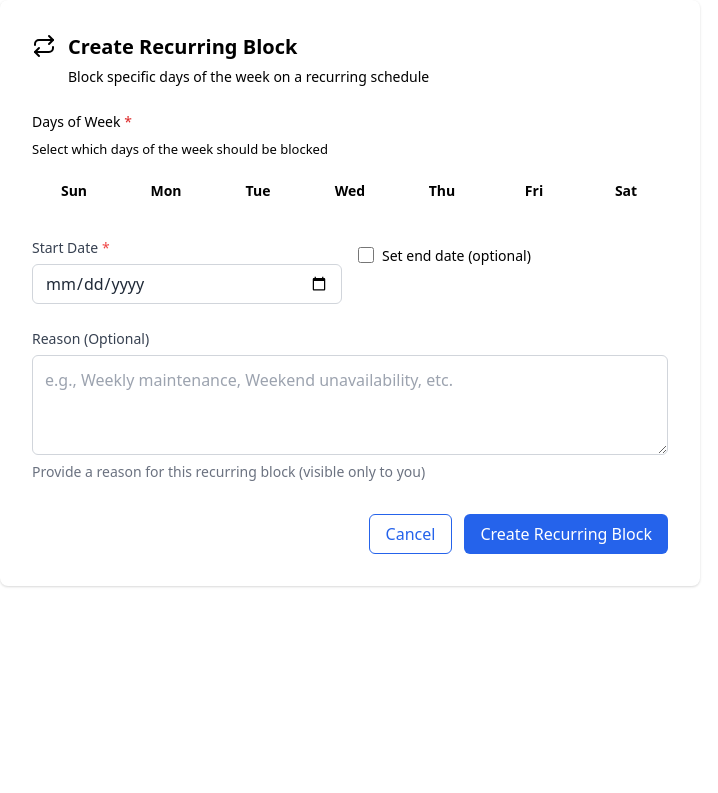
it: RecurringBlockForm › Create Mode › validates end date is after start date
Click the checkbox labelled "Mon": point(166, 190) [150,180,182,200]
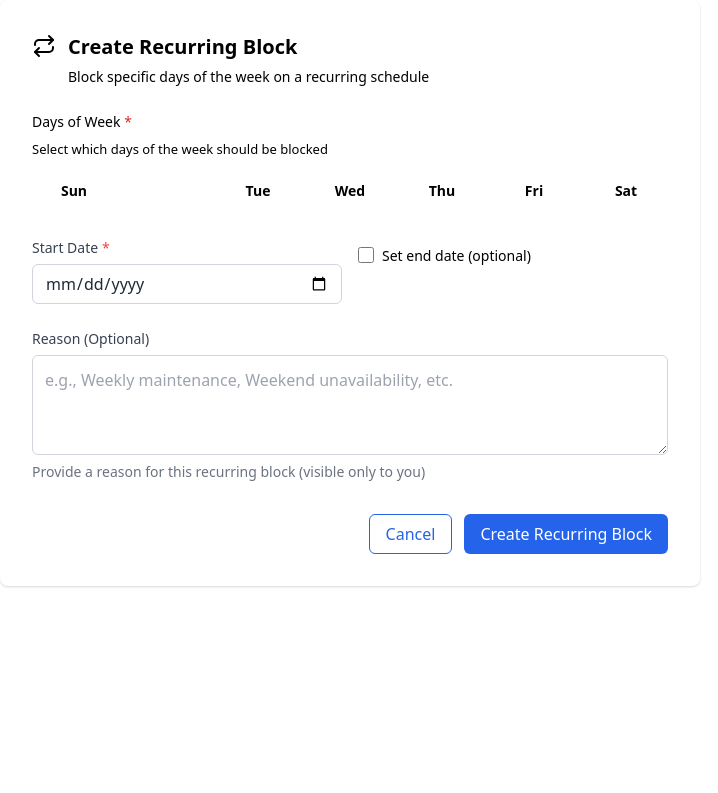
Note: Set dates
In the date field labelled "Start Date *": point(187, 284) [32,264,342,304], type "2024-01-15"
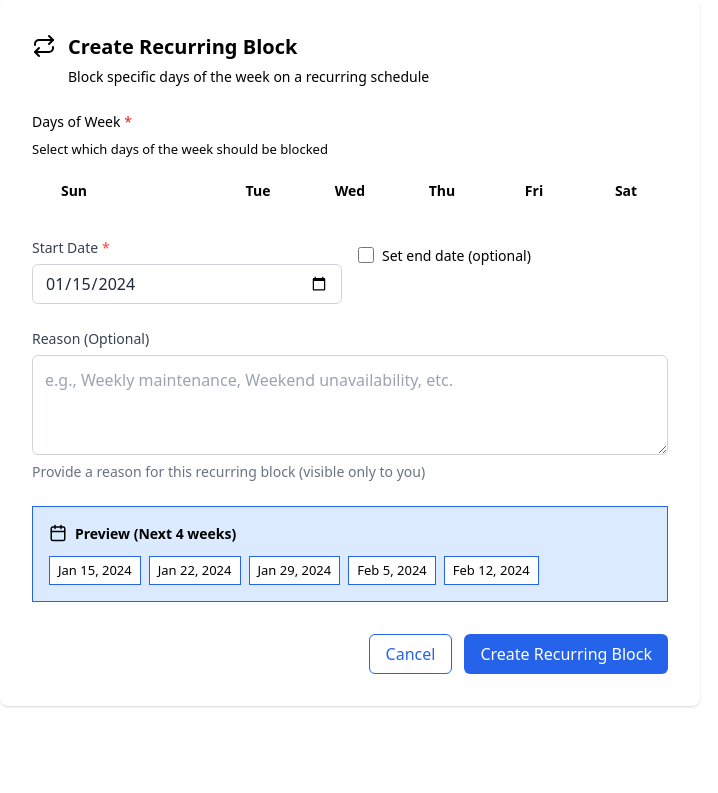
Click the checkbox labelled "Set end date (optional)": point(366, 255) [358,247,374,263]
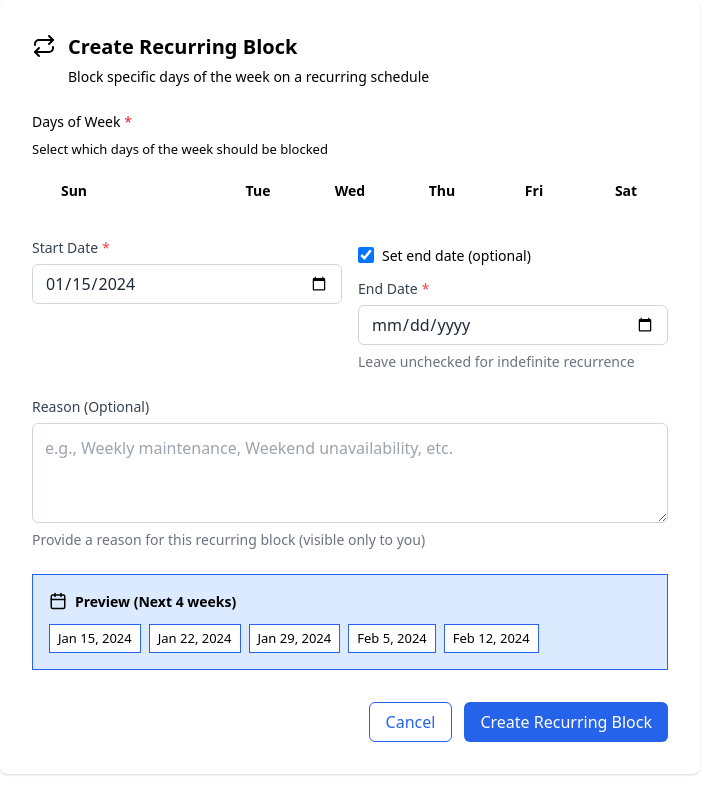
In the date field labelled "End Date *": point(513, 324) [358,304,668,344], type "2024-01-10"
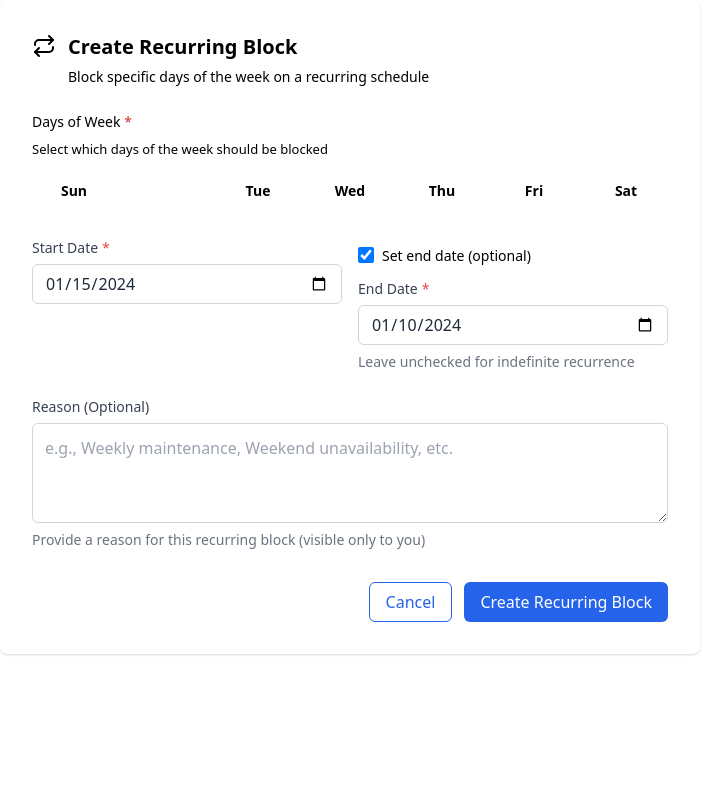
Submit the form, box [32,111,668,622]
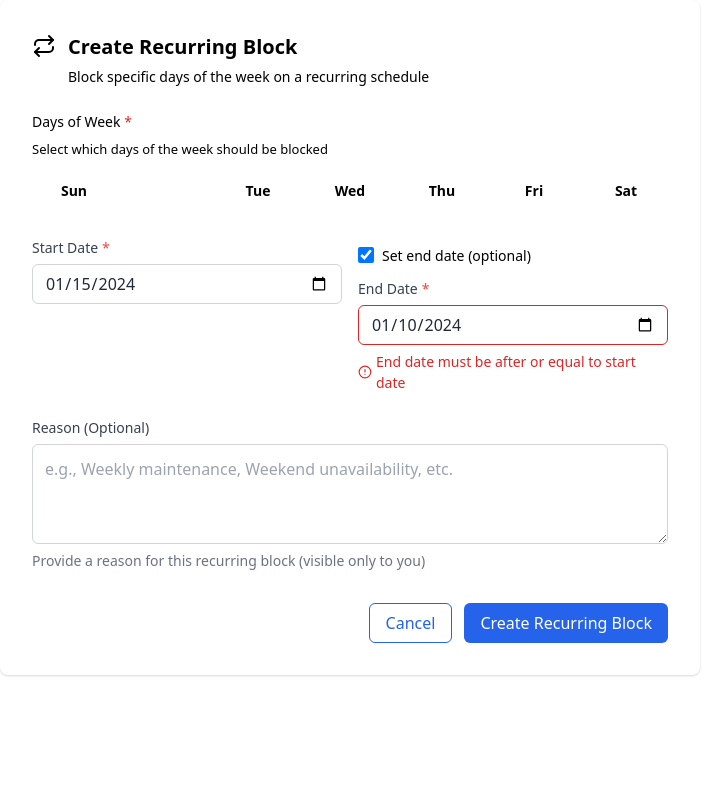
Now the text "End date must be after or equal to start date" is shown, box [358,350,668,392]
